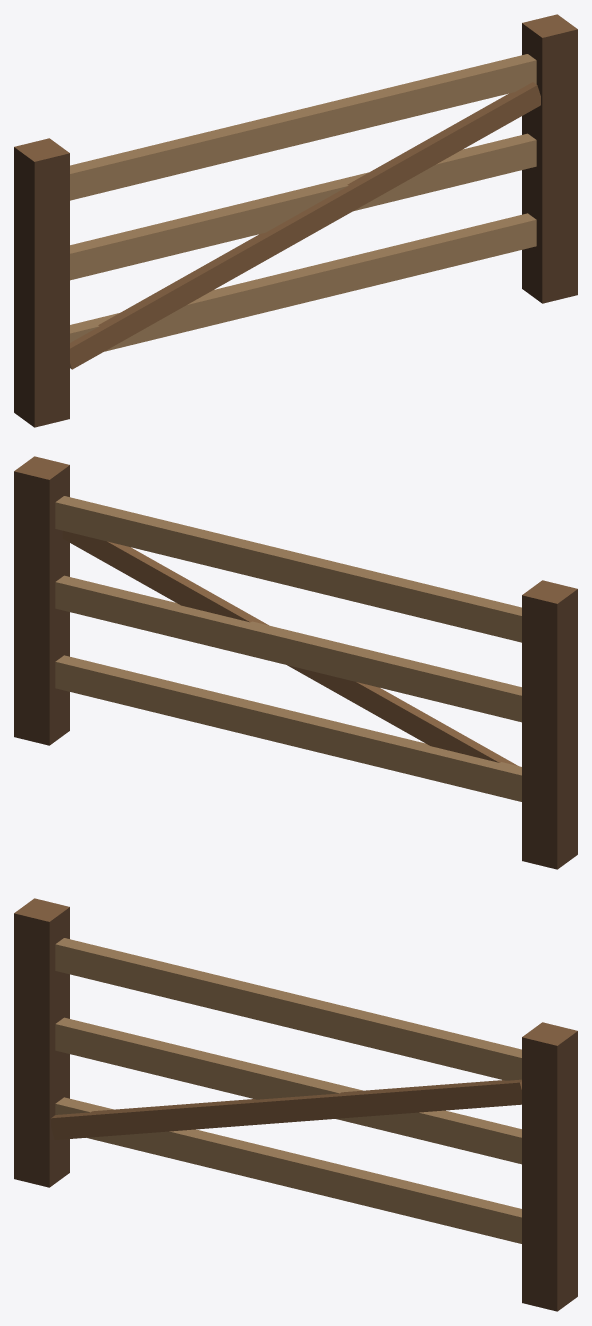
The model's file is fence_gate.glb.
3 views of the same model, one above another, from view 1: azimuth 30°, elevation 25°; view 2: azimuth 150°, elevation 25°; view 3: azimuth 330°, elevation 25° (orthographic).
Parts seen in each view (by area): view 1: fence_gate; view 2: fence_gate; view 3: fence_gate.
Part boxes in pixels (x1,y1,x2,y2): fence_gate: (14, 14, 577, 427); fence_gate: (14, 456, 577, 869); fence_gate: (14, 898, 577, 1311).
Size of the model in its own units: 2.14 by 1 by 0.14.
